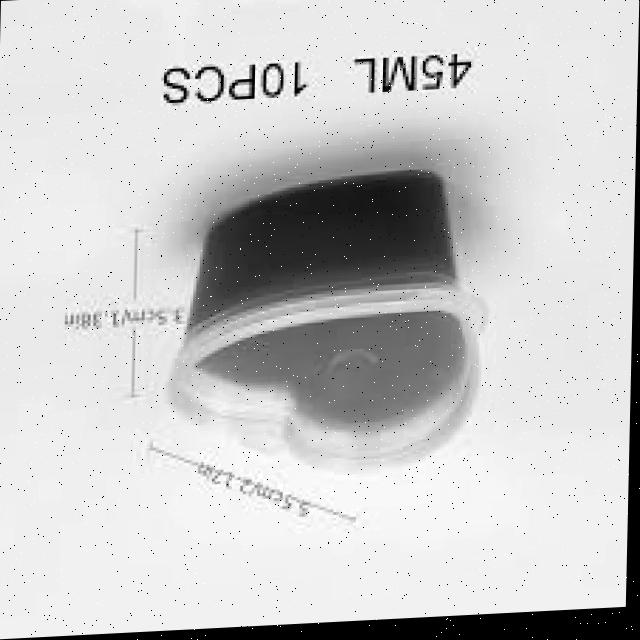disposable: (143, 153, 499, 493)
